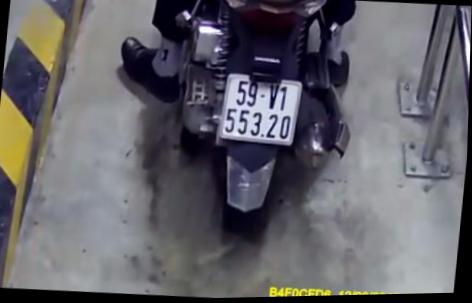LP: (217, 69, 306, 151)
